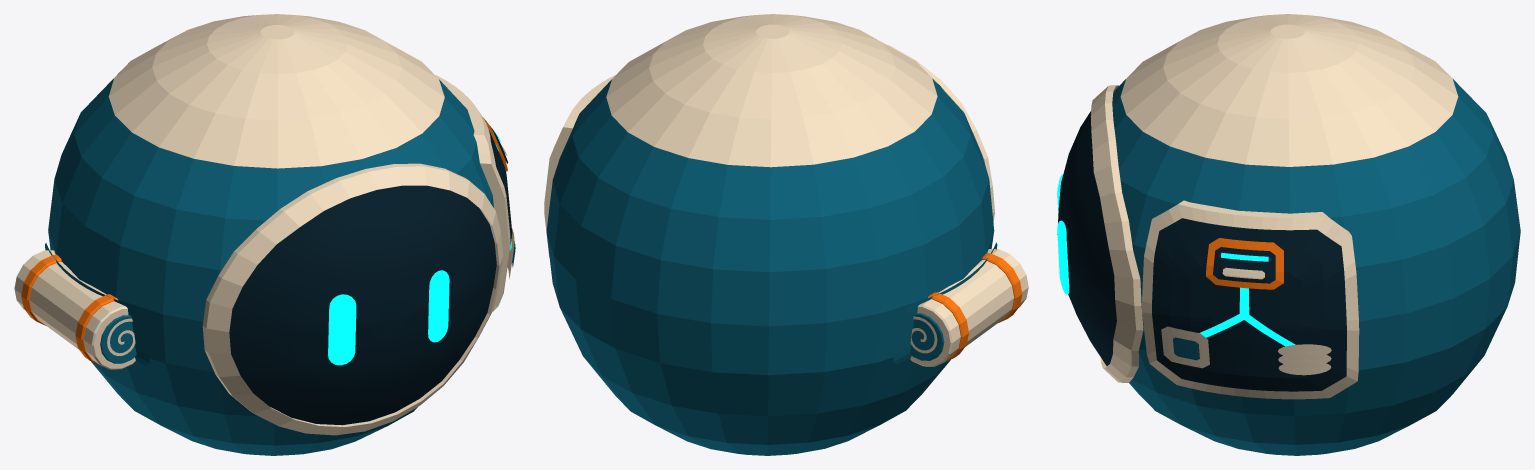
The model's file is copilot_architect_v01.glb.
3 views of the same model, side by side, from view 1: azimuth 30°, elevation 25°; view 2: azimuth 150°, elevation 25°; view 3: azimuth 270°, elevation 25° (orthographic).
Visible parts, largest first — view 1: pavilion_body, pavilion_eyes; view 2: pavilion_body; view 3: pavilion_body, pavilion_eyes.
Boxes of the visible parts, x1,y1,x2,y2 form: pavilion_body: (14, 14, 515, 455); pavilion_eyes: (328, 130, 511, 365); pavilion_body: (544, 14, 1028, 455); pavilion_body: (1057, 14, 1520, 455); pavilion_eyes: (1057, 174, 1295, 346).
Bounding box in the file's own units: 3.06 × 2.64 × 2.84.
Materials: 2 (2 with a texture image).
